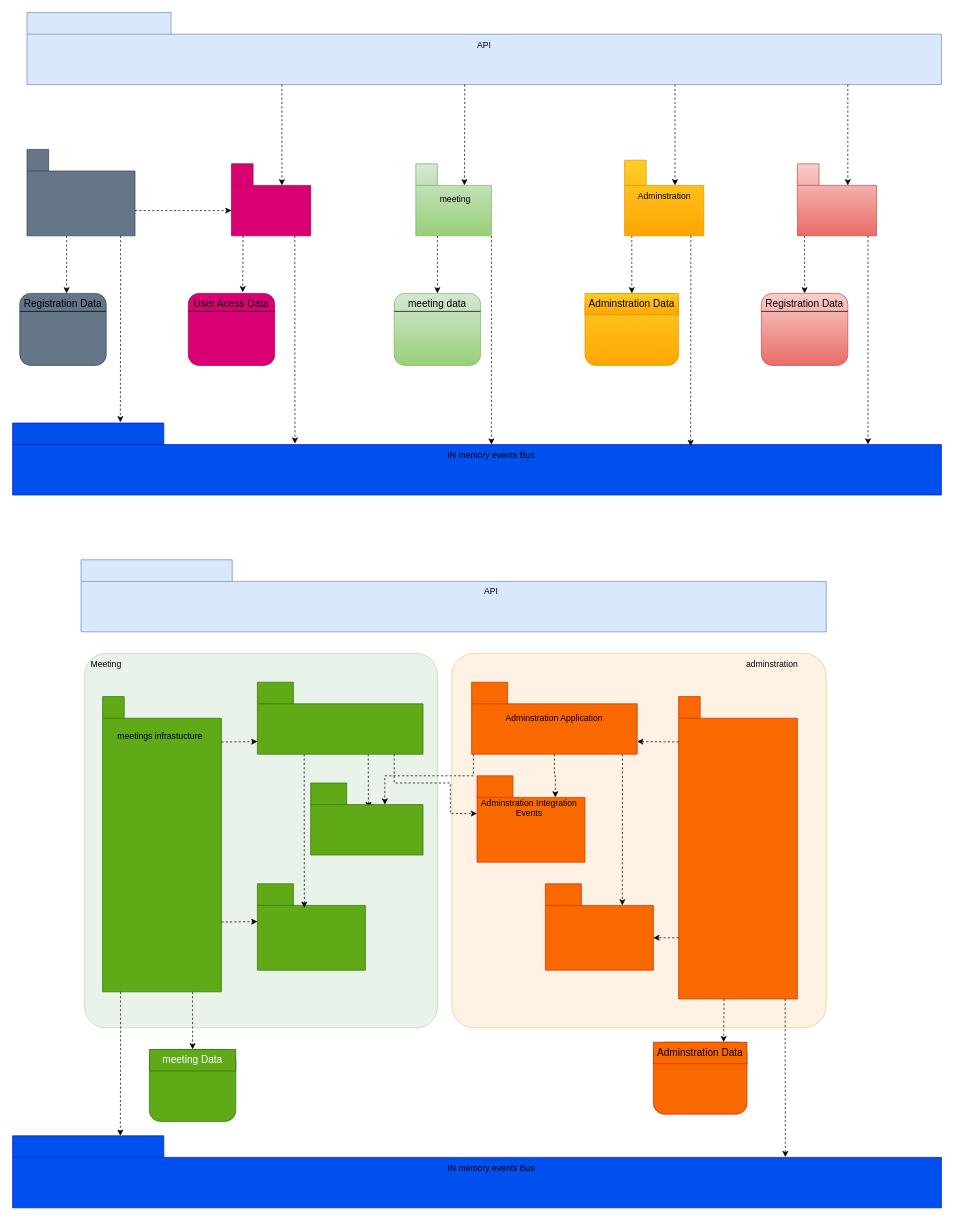
The diagram is 954 pixels wide and 1220 high, and some of its shapes have lost their labels. Each missing label, with the centre of its shape:
"Adminstration domain" goes at point (599, 926).
"adminstration infrastucture" goes at point (737, 847).
"meeting Application" goes at point (340, 717).
"meeting domain" goes at point (311, 926).
"Meeting IntergrationEvents" goes at point (366, 818).
"Payment" goes at point (837, 199).
"Register" goes at point (80, 192).
"User Access" goes at point (271, 199).
